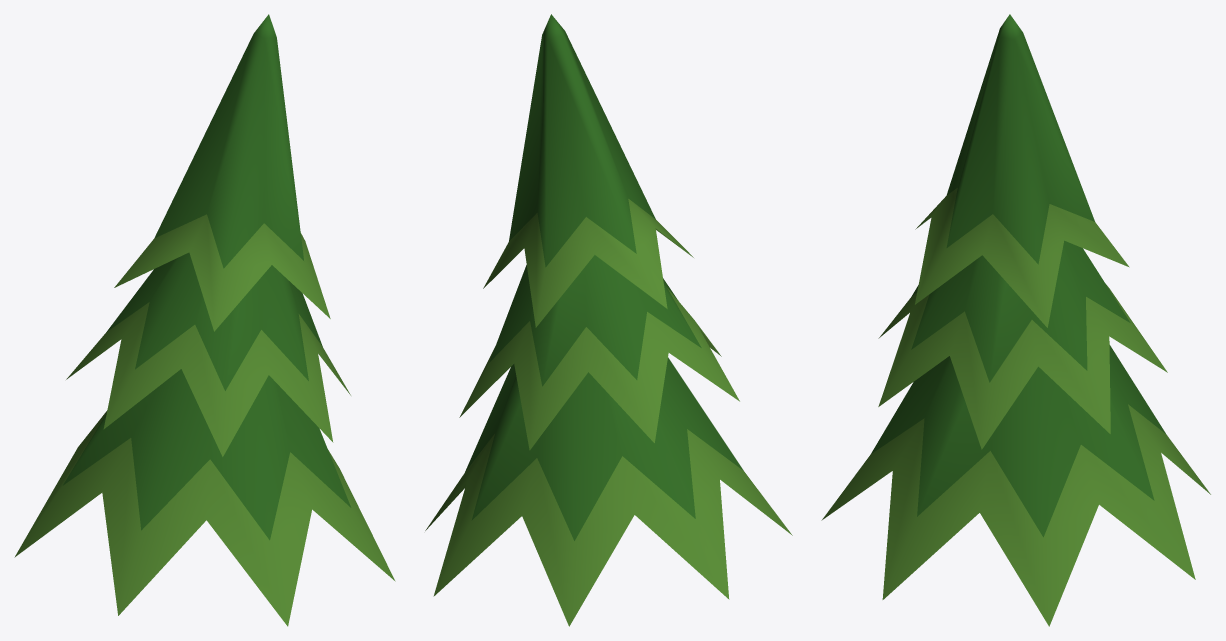
Rendered from pinetreetop.fbx.
The picture shows the model from 3 angles, left to right: view 1: azimuth 30°, elevation 25°; view 2: azimuth 150°, elevation 25°; view 3: azimuth 270°, elevation 25°; orthographic projection. The views are drawn at different scales.
Parts seen in each view (by area): view 1: pine.004; view 2: pine.004; view 3: pine.004.
Part boxes in pixels (x1,y1,x2,y2): pine.004: (14, 14, 395, 626); pine.004: (425, 14, 792, 626); pine.004: (821, 14, 1210, 626).
Size of the model in its own units: 170 by 267 by 170.
